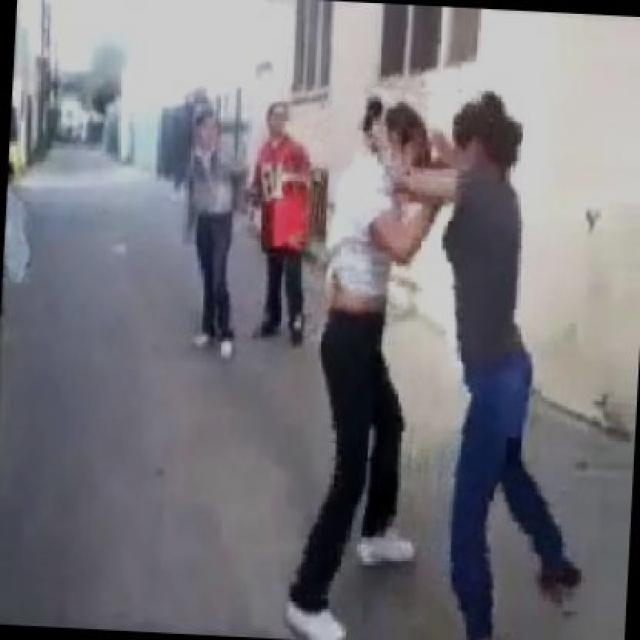fight: (274, 90, 622, 638)
